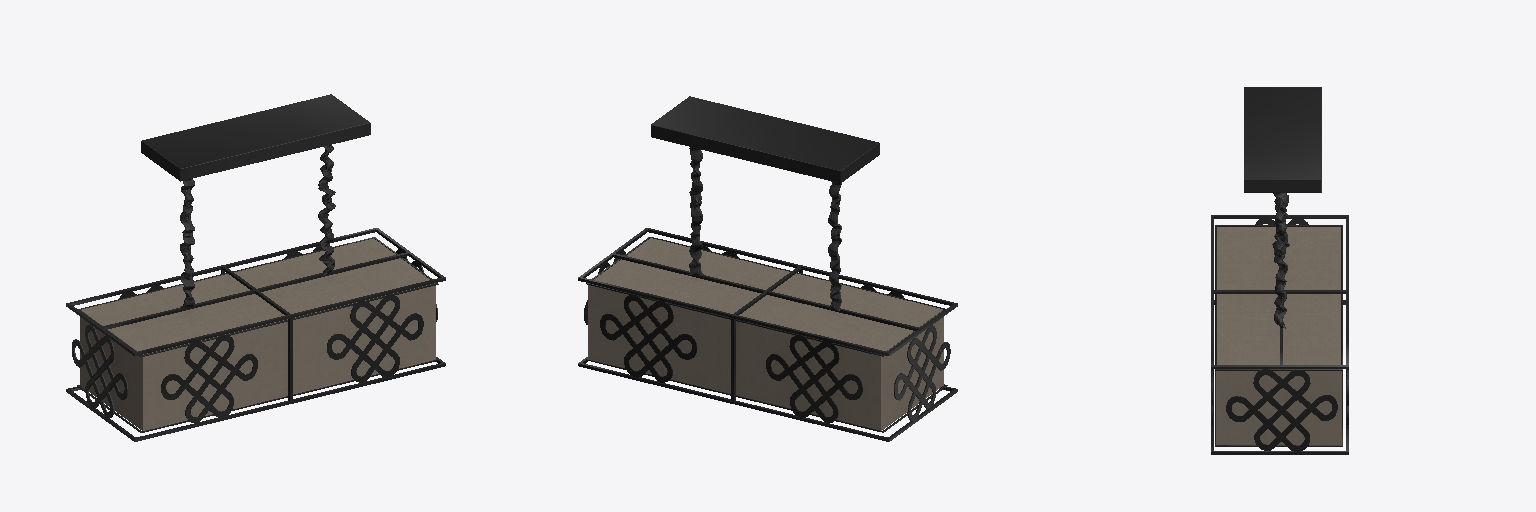
3 renders of one model, left to right at view 1: azimuth 30°, elevation 25°; view 2: azimuth 150°, elevation 25°; view 3: azimuth 270°, elevation 25°, orthographic.
Parts seen in each view (by area): view 1: glass_001, solid_003, solid_001; view 2: glass_001, solid_003, solid_001; view 3: glass_001, solid_003, solid_001.
Boxes of the visible parts, x1=… form: glass_001: x1=80, y1=238, x2=435, y2=430; solid_003: x1=66, y1=94, x2=445, y2=441; solid_001: x1=180, y1=145, x2=335, y2=307; glass_001: x1=588, y1=238, x2=943, y2=430; solid_003: x1=578, y1=96, x2=957, y2=441; solid_001: x1=689, y1=147, x2=841, y2=310; glass_001: x1=1216, y1=227, x2=1341, y2=444; solid_003: x1=1211, y1=87, x2=1348, y2=454; solid_001: x1=1272, y1=193, x2=1289, y2=328.
Size of the model in its own units: 1.59 by 1.2 by 0.6097.
1 materials, 1 textured.